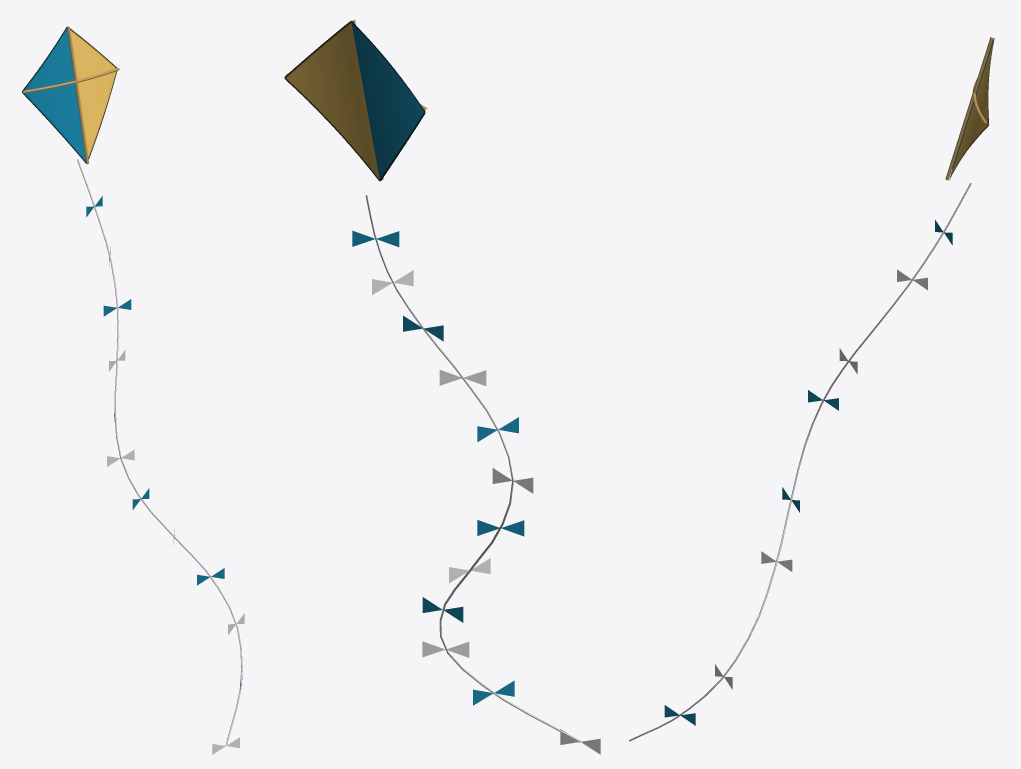
File: pipa-3.glb
The picture shows the model from 3 angles, left to right: view 1: azimuth 30°, elevation 25°; view 2: azimuth 150°, elevation 25°; view 3: azimuth 270°, elevation 25°; orthographic projection. The views are drawn at different scales.
Visible parts, largest first — view 1: pipa-3; view 2: pipa-3; view 3: pipa-3.
Part boxes in pixels (x1,y1,x2,y2): pipa-3: [22, 26, 244, 754]; pipa-3: [284, 19, 600, 754]; pipa-3: [629, 37, 994, 741].
Bounding box in the file's own units: 1.06 × 5.5 × 2.66.
Materials: 5 (1 with a texture image).
